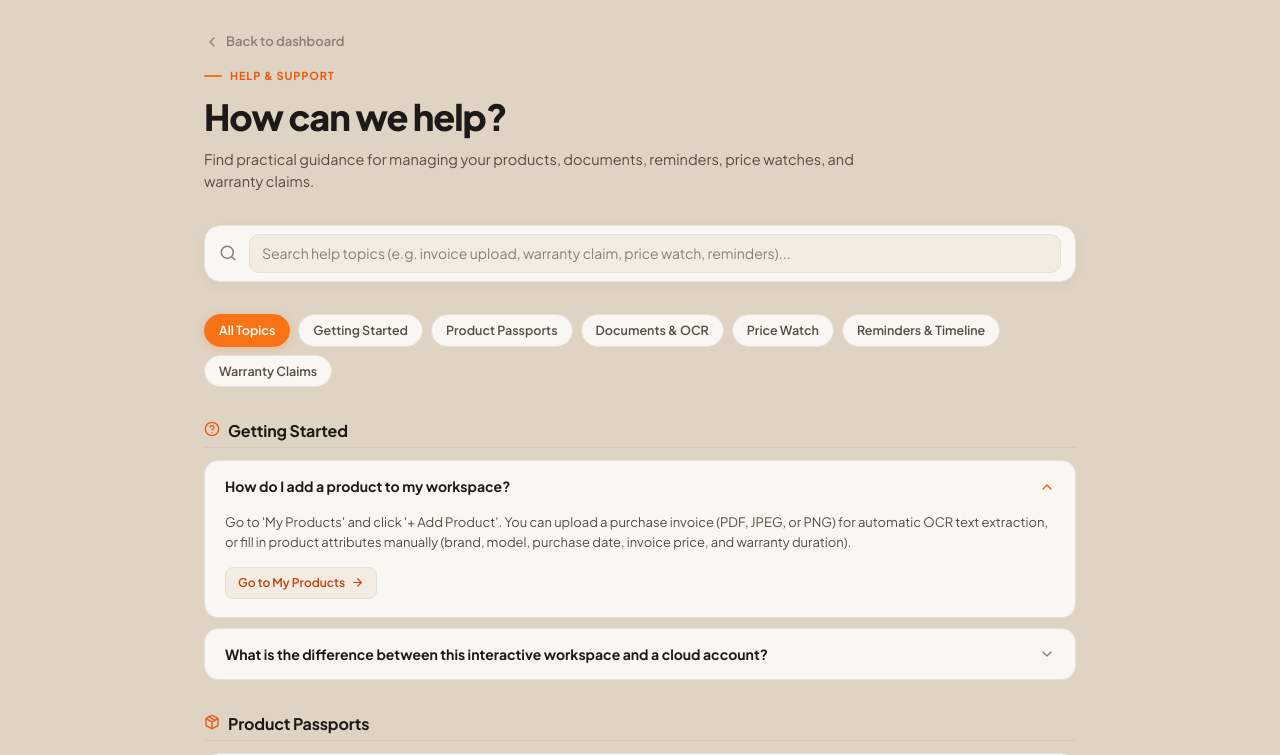
Test case: HelpSupport › filters FAQs dynamically by search query
Type "OCR" into the field with placeholder "Search help topics". click: x=655, y=253
box: [249,234,1061,273]
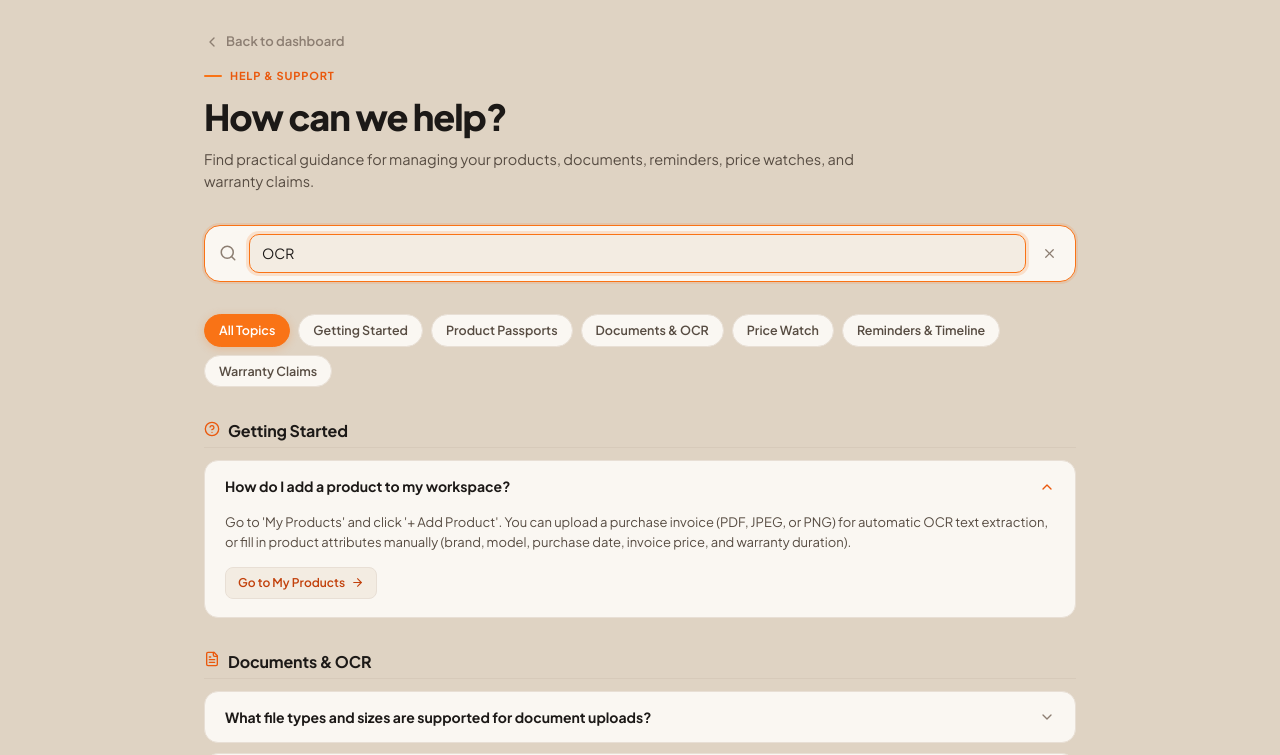
Check: the text "What file types and sizes are supported" is shown, box [225,708,651,726]
Check: the text "how do i monitor price drops" is not shown
Note: Clear search
Click the button named "clear search query". click: x=1050, y=253
box: [1038,242,1061,265]
(page scrolled)
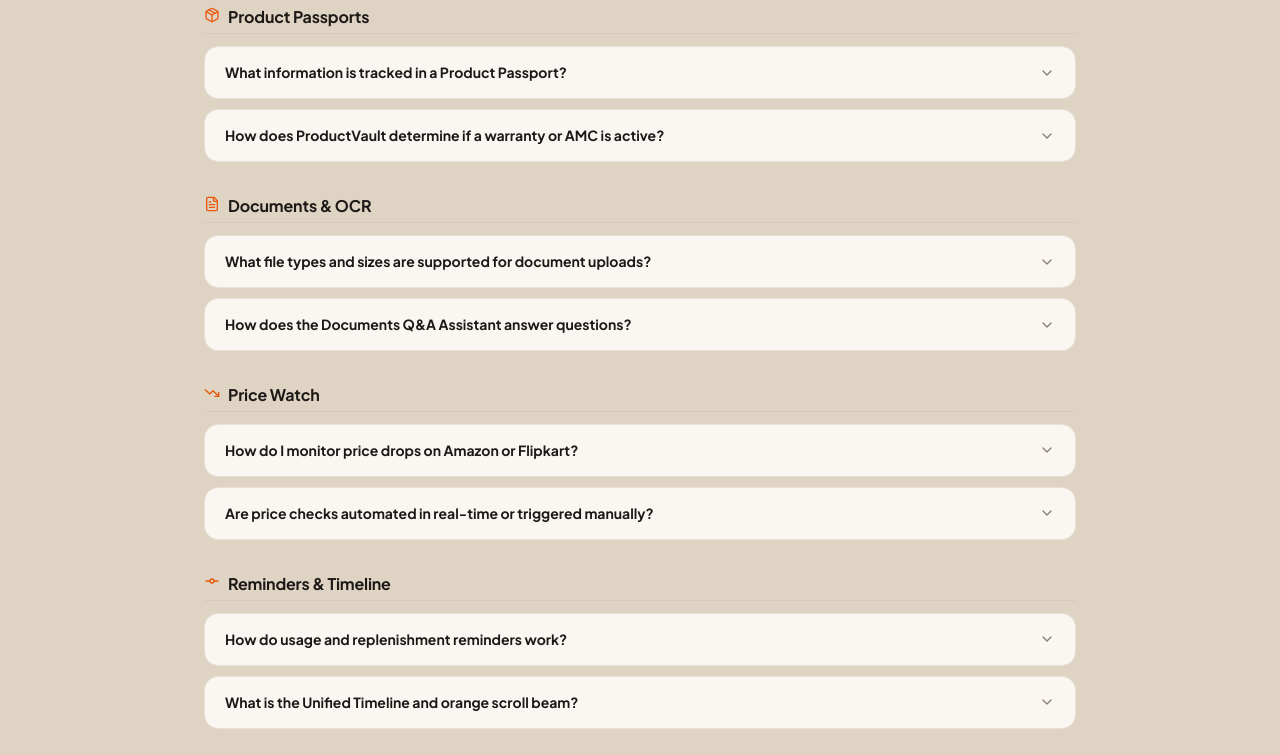
Check: the text "How do I monitor price drops on Amazon or Flipkart?" is shown, box [225,441,578,460]
